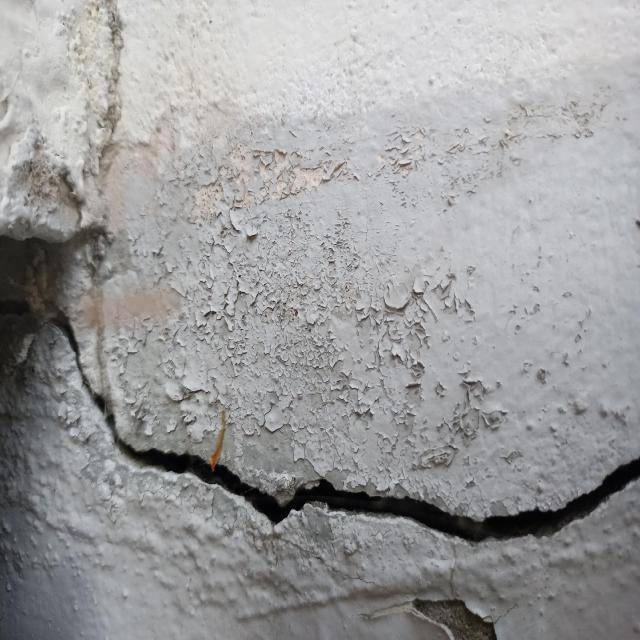SurfaceCrack: (1, 323, 640, 575)
